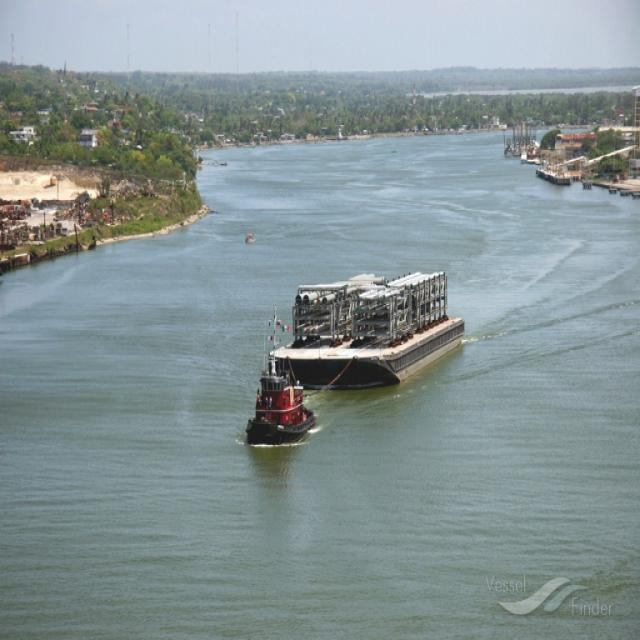tugboat: (246, 314, 315, 448)
